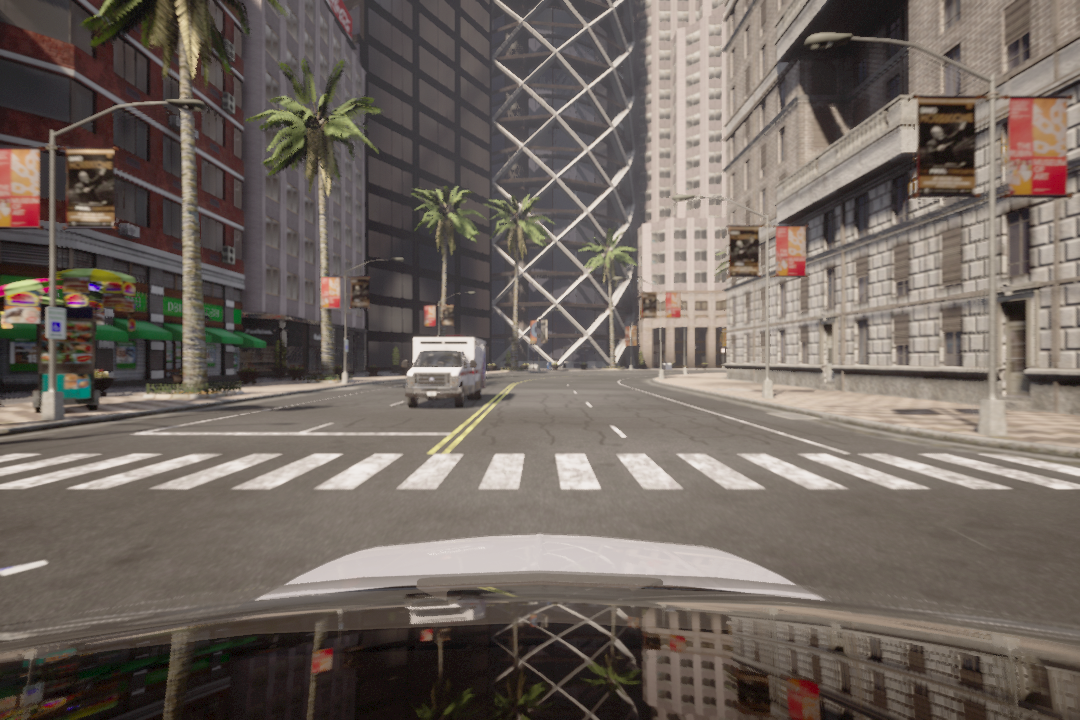walkside: (1, 446, 1080, 495)
